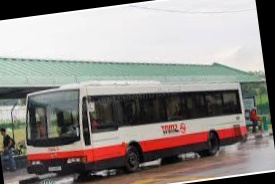bus: (10, 60, 253, 184)
